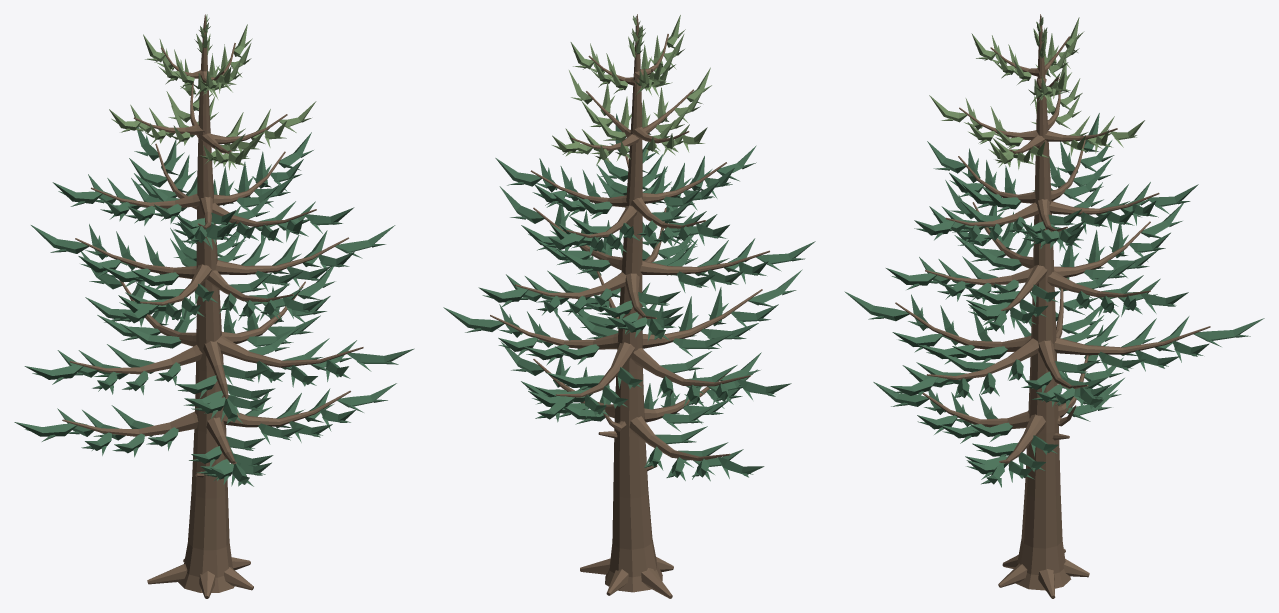
File: conifer-tree.glb
3 renders of one model, left to right at view 1: azimuth 30°, elevation 25°; view 2: azimuth 150°, elevation 25°; view 3: azimuth 270°, elevation 25°, orthographic.
Visible parts, largest first — view 1: Conifer | clustered narrow needle-bearing shoots, Conifer | editable woody axis boughs and collars; view 2: Conifer | clustered narrow needle-bearing shoots, Conifer | editable woody axis boughs and collars; view 3: Conifer | clustered narrow needle-bearing shoots, Conifer | editable woody axis boughs and collars.
Boxes of the visible parts, x1,y1,x2,y2 form: Conifer | clustered narrow needle-bearing shoots: (14,14,414,486); Conifer | editable woody axis boughs and collars: (62,14,363,598); Conifer | clustered narrow needle-bearing shoots: (443,15,815,481); Conifer | editable woody axis boughs and collars: (490,14,769,598); Conifer | clustered narrow needle-bearing shoots: (844,16,1264,487); Conifer | editable woody axis boughs and collars: (895,14,1210,598).
Size of the model in its own units: 4.3 by 7.04 by 4.77.
